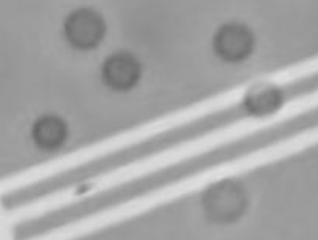cell: (194, 169, 257, 229), (57, 2, 111, 53), (206, 15, 260, 65), (240, 73, 288, 122), (97, 47, 144, 93), (26, 109, 72, 154)
